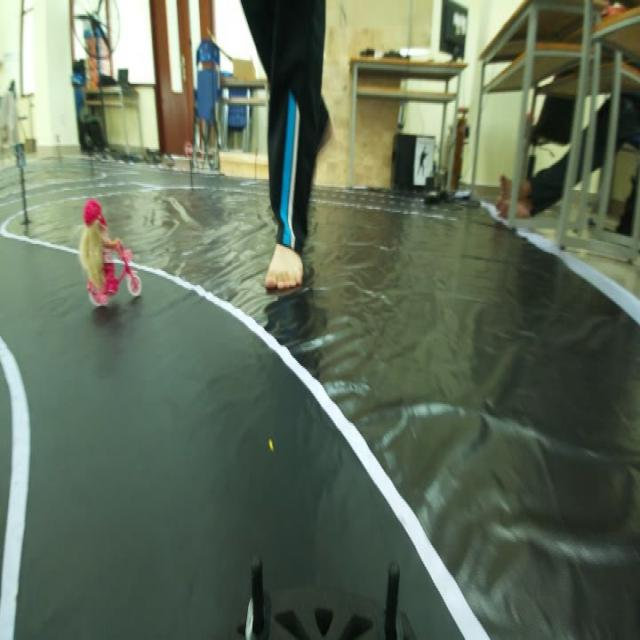pedestrian: (71, 198, 140, 306)
